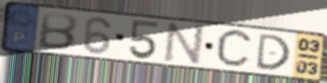5: (127, 19, 161, 61)
6: (81, 15, 113, 56)
B: (35, 10, 80, 52)
C: (214, 27, 256, 70)
D: (254, 33, 293, 72)
N: (161, 21, 207, 68)
